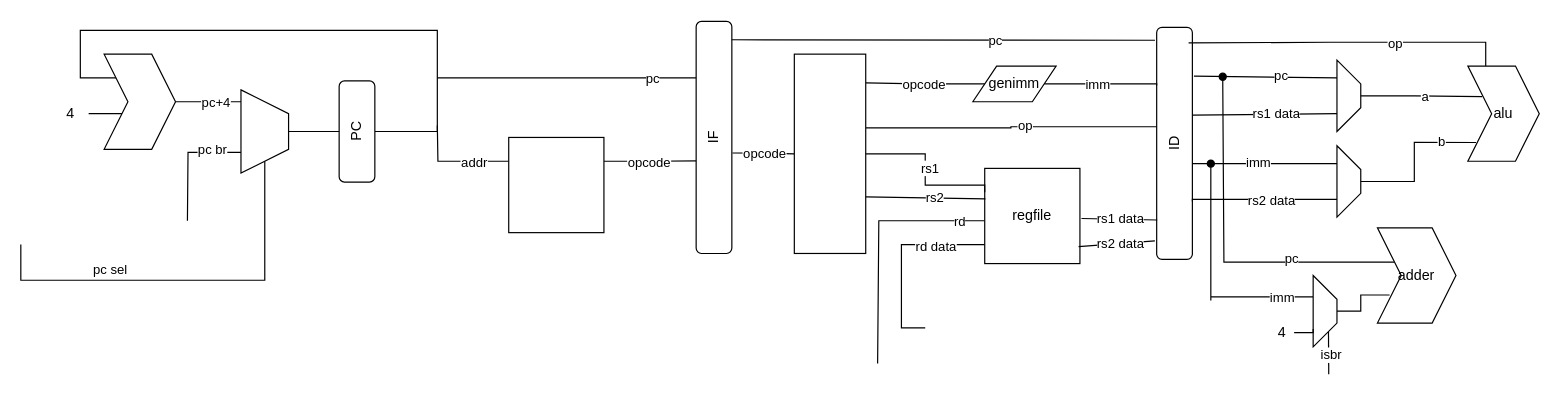
The diagram is 1560 pixels wide and 396 high, and some of its shapes have lost their labels. The shapes that lost their labels are listed below. From the top down, each one's centre as x and y in pixels, then its label:
At point (139, 101): "pc add".
At point (829, 153): "Decoder".
At point (556, 184): "instruction memory".
